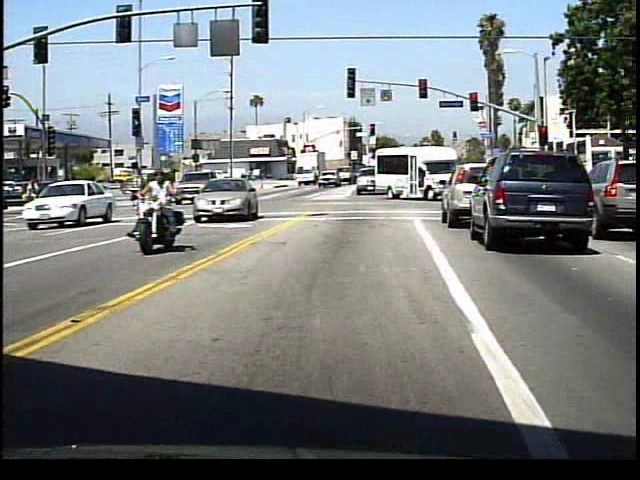person: (141, 166, 192, 254)
